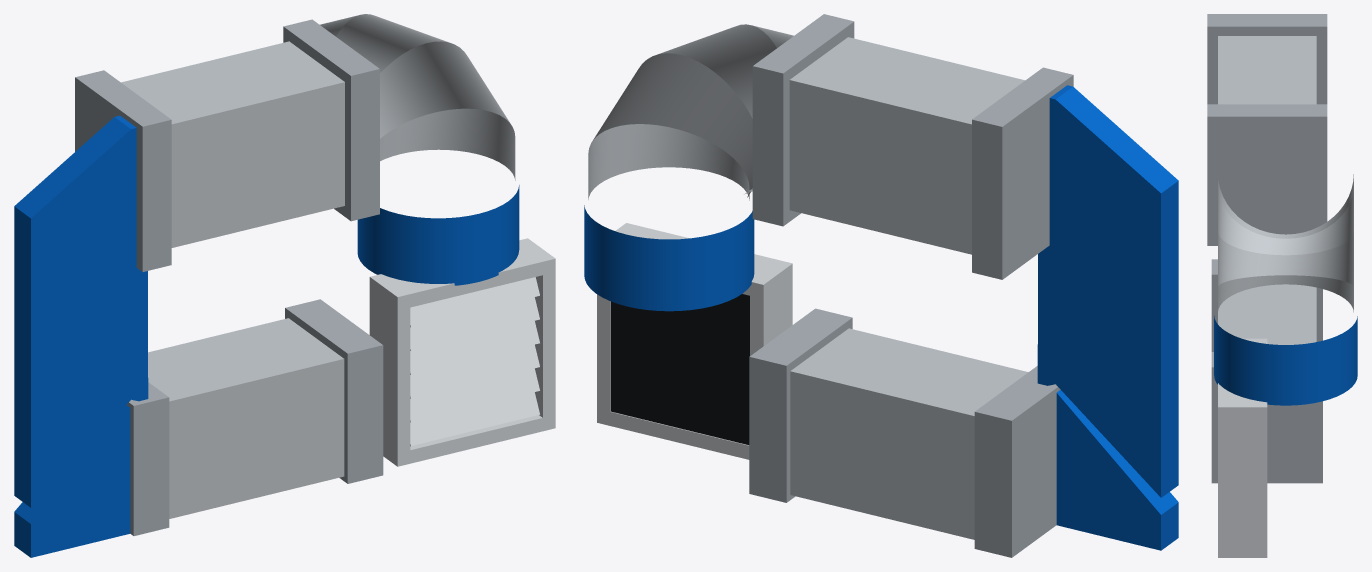
File: libalstal-emblem-proxy.glb
The picture shows the model from 3 angles, left to right: view 1: azimuth 30°, elevation 25°; view 2: azimuth 150°, elevation 25°; view 3: azimuth 270°, elevation 25°; orthographic projection. The views are drawn at different scales.
Visible parts, largest first — view 1: side_panel_sheet, top_run_shell, bottom_run_shell, collar_sleeve, wedge_sheet, top_run_flange_a, bottom_run_flange_b, top_run_flange_b, elbow_gore_3_sheet, grille_frame_left, bottom_run_flange_a, elbow_gore_4_sheet (+10 smaller); view 2: side_panel_sheet, top_run_shell, bottom_run_shell, grille_plenum, top_run_flange_a, bottom_run_flange_a, collar_sleeve, wedge_sheet, elbow_gore_3_sheet, top_run_flange_b, bottom_run_flange_b, elbow_gore_4_sheet (+5 smaller); view 3: top_run_flange_b, collar_sleeve, grille_frame_right, top_run_shell, bottom_run_flange_b, bottom_run_shell, top_run_flange_a, elbow_gore_3_sheet, elbow_gore_2_sheet, elbow_gore_4_sheet, grille_frame_top, elbow_gore_1_sheet (+2 smaller).
Part boxes in pixels (x1,y1,x2,y2): side_panel_sheet: [14, 115, 148, 507]; top_run_shell: [121, 41, 344, 247]; bottom_run_shell: [148, 318, 344, 518]; collar_sleeve: [357, 185, 519, 285]; wedge_sheet: [14, 405, 130, 557]; top_run_flange_a: [75, 70, 171, 271]; bottom_run_flange_b: [285, 299, 383, 483]; top_run_flange_b: [283, 19, 379, 221]; elbow_gore_3_sheet: [380, 41, 510, 138]; grille_frame_left: [369, 274, 410, 466]; bottom_run_flange_a: [126, 382, 169, 535]; elbow_gore_4_sheet: [380, 108, 515, 180]; side_panel_sheet: [1037, 85, 1178, 497]; top_run_shell: [789, 37, 1024, 254]; bottom_run_shell: [790, 328, 1028, 539]; grille_plenum: [611, 294, 749, 444]; top_run_flange_a: [972, 67, 1073, 279]; bottom_run_flange_a: [974, 366, 1060, 557]; collar_sleeve: [584, 205, 754, 311]; wedge_sheet: [1056, 390, 1178, 550]; elbow_gore_3_sheet: [593, 53, 752, 197]; top_run_flange_b: [752, 14, 854, 226]; bottom_run_flange_b: [749, 308, 852, 502]; elbow_gore_4_sheet: [588, 124, 749, 200]; top_run_flange_b: [1207, 104, 1327, 245]; collar_sleeve: [1214, 315, 1357, 405]; grille_frame_right: [1218, 401, 1267, 557]; top_run_shell: [1218, 36, 1316, 104]; bottom_run_flange_b: [1211, 352, 1322, 483]; bottom_run_shell: [1218, 284, 1316, 344]; top_run_flange_a: [1207, 14, 1327, 104]; elbow_gore_3_sheet: [1218, 232, 1353, 286]; elbow_gore_2_sheet: [1218, 186, 1353, 255]; elbow_gore_4_sheet: [1218, 275, 1353, 312]; grille_frame_top: [1218, 383, 1267, 419]; elbow_gore_1_sheet: [1218, 174, 1353, 238].
Bounding box in the file's own units: 0.6528 × 0.4945 × 0.1824.
